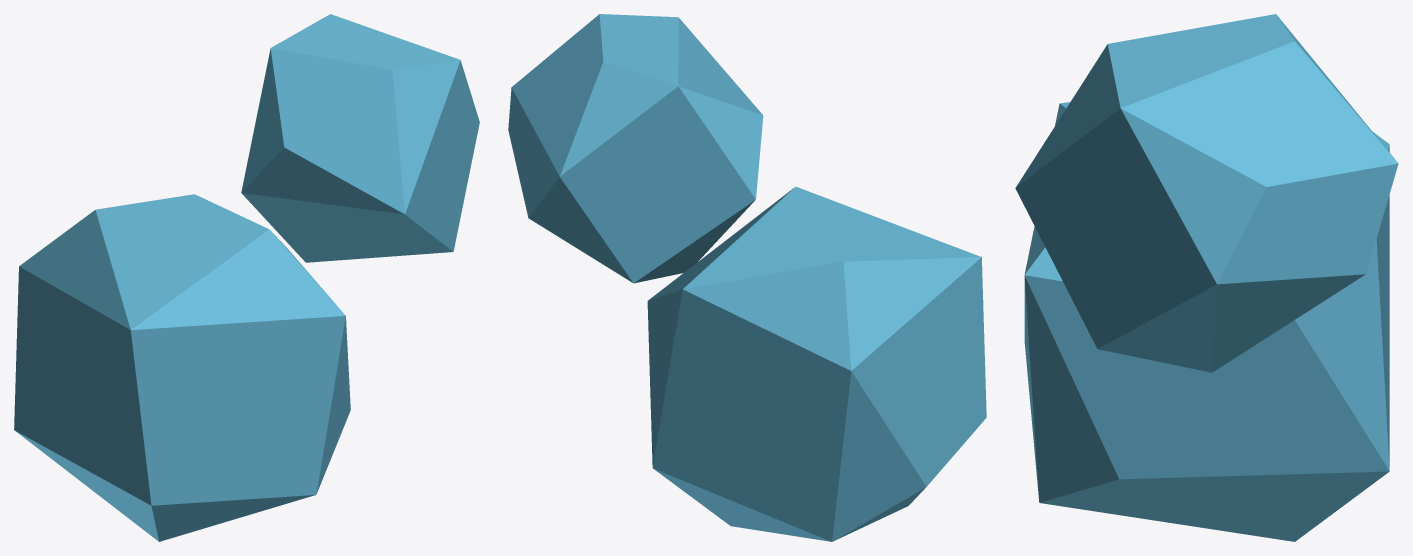
The model's file is Cloud_v06.fbx.
3 views of the same model, side by side, from view 1: azimuth 30°, elevation 25°; view 2: azimuth 150°, elevation 25°; view 3: azimuth 270°, elevation 25° (orthographic). The views are drawn at different scales.
Parts seen in each view (by area): view 1: Cloud_v06; view 2: Cloud_v06; view 3: Cloud_v06.
Boxes of the visible parts, x1,y1,x2,y2 form: Cloud_v06: [14, 14, 479, 541]; Cloud_v06: [508, 14, 986, 541]; Cloud_v06: [1015, 14, 1398, 541].
Size of the model in its own units: 12.23 by 11.32 by 6.73.
1 material, 1 textured.
